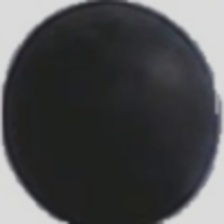grapes: (57, 41, 203, 177)
